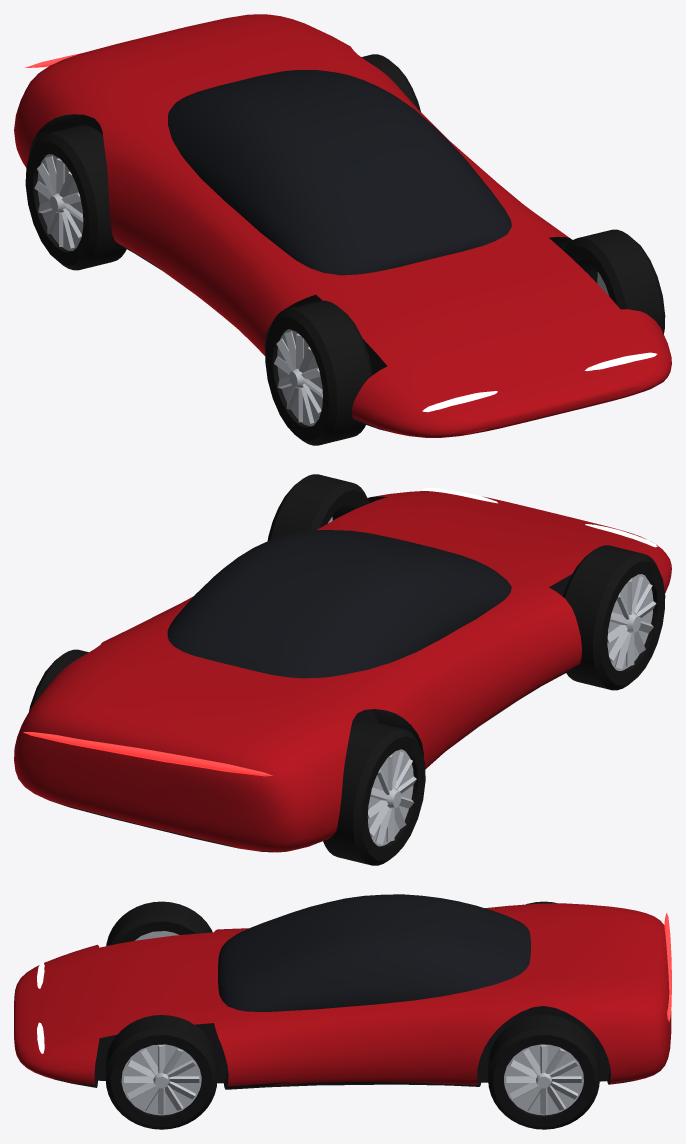
Rendered from roadster-mid.glb.
3 views of the same model, one above another, from view 1: azimuth 30°, elevation 25°; view 2: azimuth 150°, elevation 25°; view 3: azimuth 270°, elevation 25° (orthographic). The views are drawn at different scales.
Visible parts, largest first — view 1: roadster.001; view 2: roadster.001; view 3: roadster.001.
Boxes of the visible parts, <box> form: roadster.001: <box>14,14,671,445</box>; roadster.001: <box>14,474,671,865</box>; roadster.001: <box>14,894,671,1129</box>.
Size of the model in its own units: 2.36 by 1.24 by 4.9.
